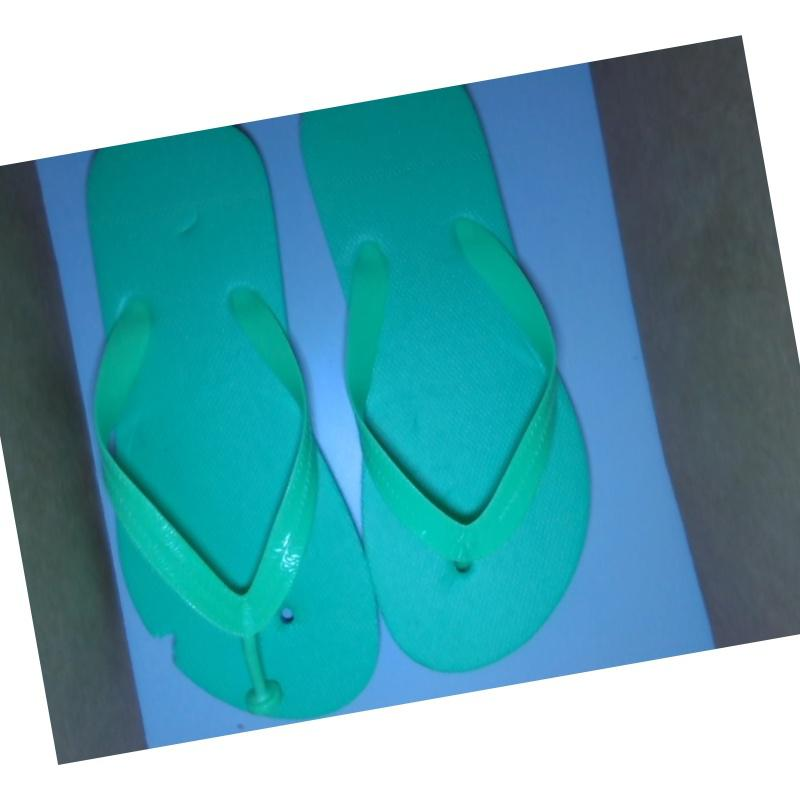chipped: (140, 609, 190, 677)
detached: (233, 655, 298, 720)
